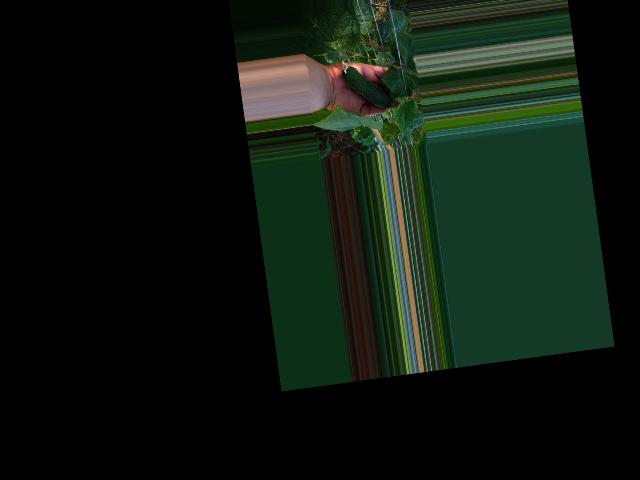cucumber: (339, 54, 393, 113)
